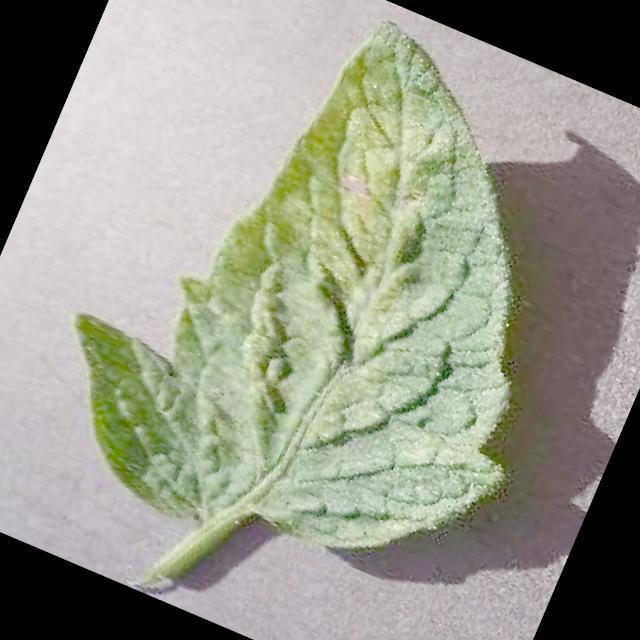Tomato spider mites leaf: (16, 0, 640, 631)
